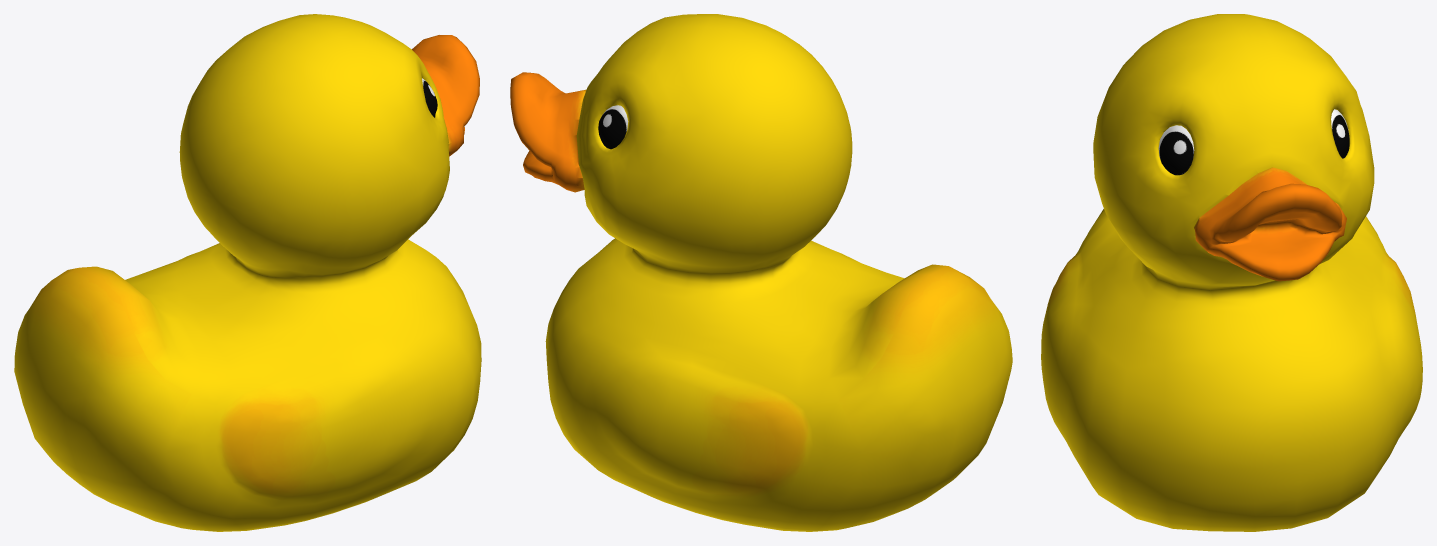
The model's file is Duck.draco.glb.
3 views of the same model, side by side, from view 1: azimuth 30°, elevation 25°; view 2: azimuth 150°, elevation 25°; view 3: azimuth 270°, elevation 25° (orthographic). The views are drawn at different scales.
Visible parts, largest first — view 1: LOD3spShape; view 2: LOD3spShape; view 3: LOD3spShape.
Boxes of the visible parts, box(x1,y1,x2,y2) form: LOD3spShape: box(14, 14, 481, 531); LOD3spShape: box(510, 14, 1012, 531); LOD3spShape: box(1041, 14, 1422, 531).
Size of the model in its own units: 1.65 by 1.54 by 1.15.
Materials: 1 (1 with a texture image).
